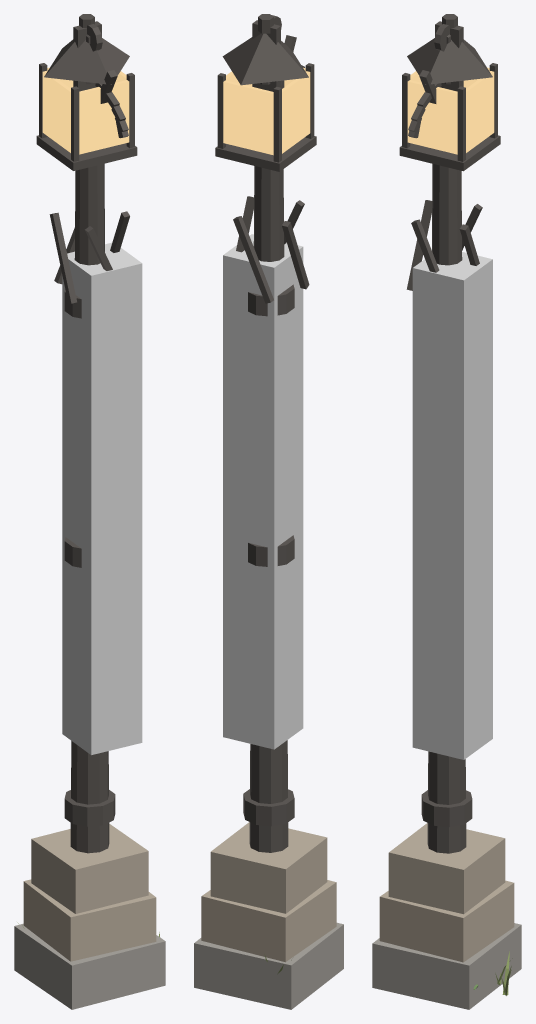
The model's file is street_lamp.glb.
The picture shows the model from 3 angles, left to right: view 1: azimuth 30°, elevation 25°; view 2: azimuth 150°, elevation 25°; view 3: azimuth 330°, elevation 25°; orthographic projection.
Parts seen in each view (by area): view 1: street_lamp, COL_street_lamp; view 2: street_lamp, COL_street_lamp; view 3: street_lamp, COL_street_lamp.
Boxes of the visible parts, bbox=[...] form: street_lamp: bbox=[14, 14, 165, 1009]; COL_street_lamp: bbox=[62, 242, 142, 755]; street_lamp: bbox=[194, 14, 343, 1009]; COL_street_lamp: bbox=[223, 234, 303, 749]; street_lamp: bbox=[372, 14, 521, 1009]; COL_street_lamp: bbox=[412, 252, 492, 759].
Bounding box in the file's own units: 0.4389 × 3.46 × 0.4296.
